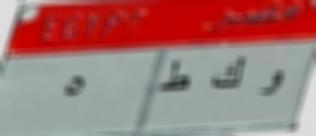5: (61, 70, 87, 97)
Taa: (155, 57, 191, 97)
kaaf: (209, 51, 246, 98)
waw: (257, 67, 285, 99)
